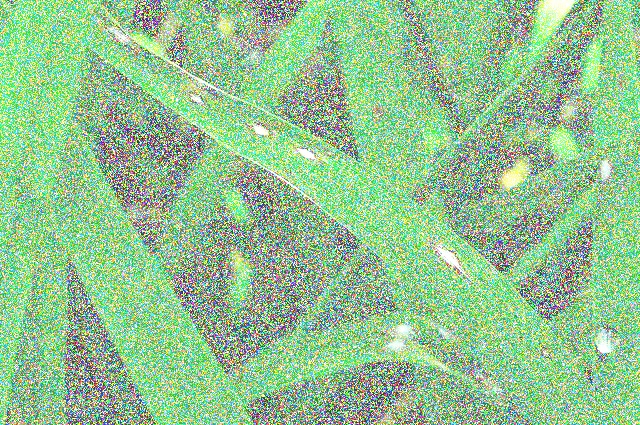Brown_Spot: (98, 11, 153, 55), (426, 235, 471, 274), (294, 132, 323, 166), (180, 76, 212, 106), (238, 115, 275, 140), (593, 151, 616, 188)
